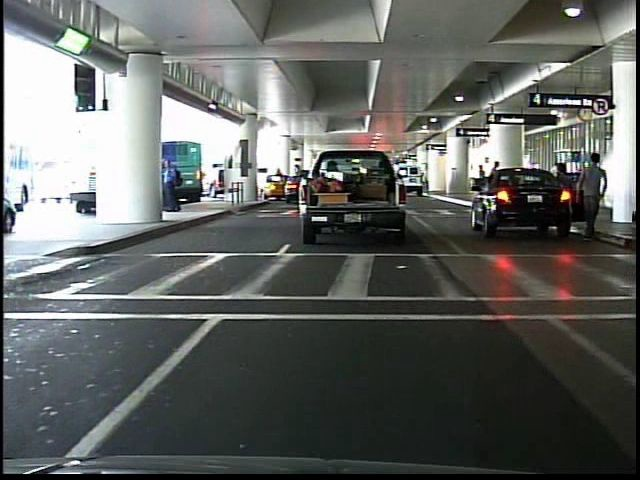person: (571, 151, 612, 243), (161, 149, 186, 216)
